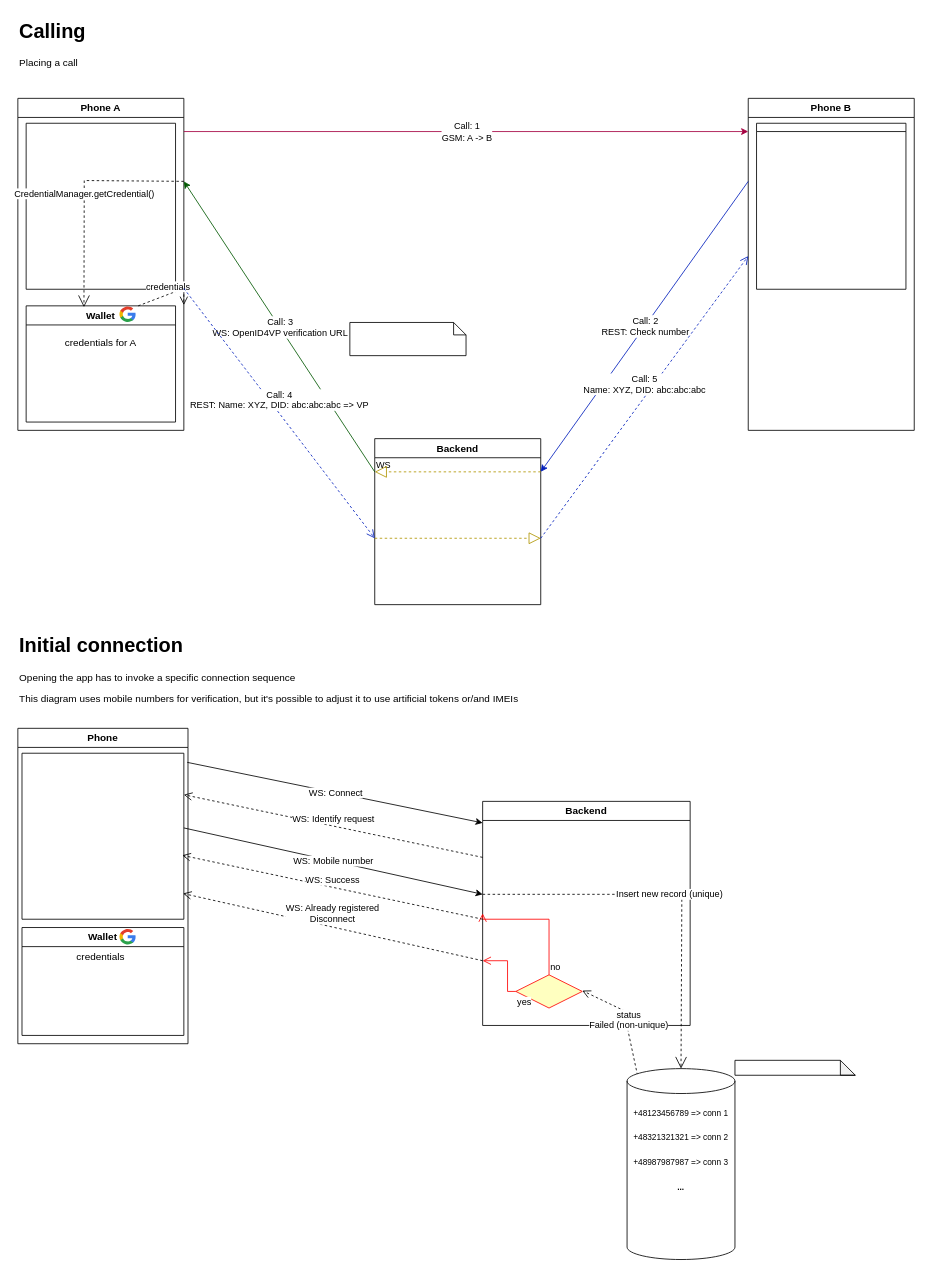
Image size: 930x1274. Some labels were removed from this diagram. The centre of each missing label's shape, as x and y in pixels:
"A simple KV store" goes at (794,1067).
"Condition" goes at (548,991).
"Verification URL is just an endpoint on the backend" goes at (407,339).
